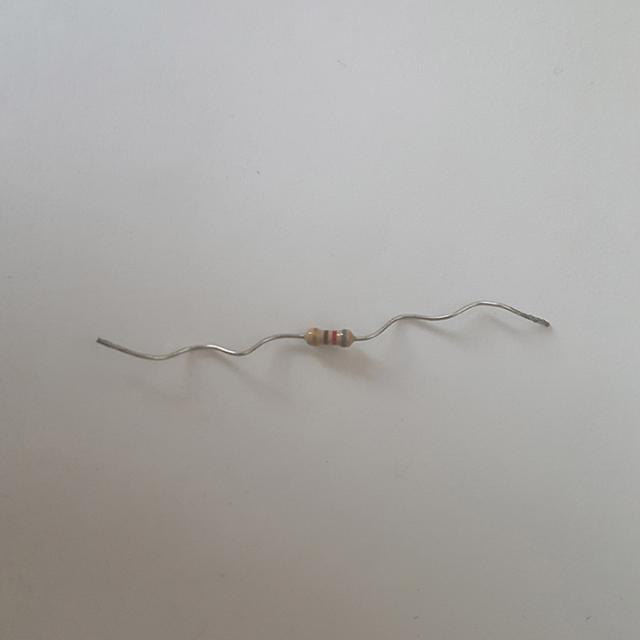brown: (323, 330, 328, 344)
gold: (313, 327, 315, 344)
grey: (341, 328, 345, 345)
red: (332, 330, 337, 345)
resistor: (301, 318, 358, 355)
